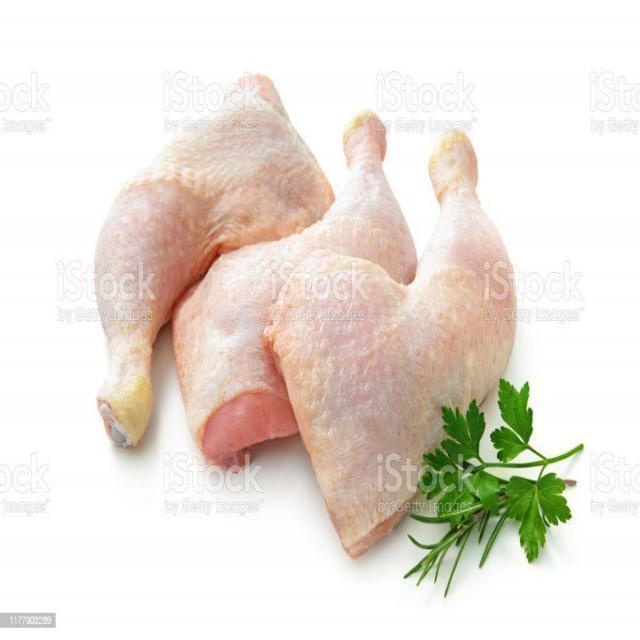chicken: (91, 72, 517, 563)
